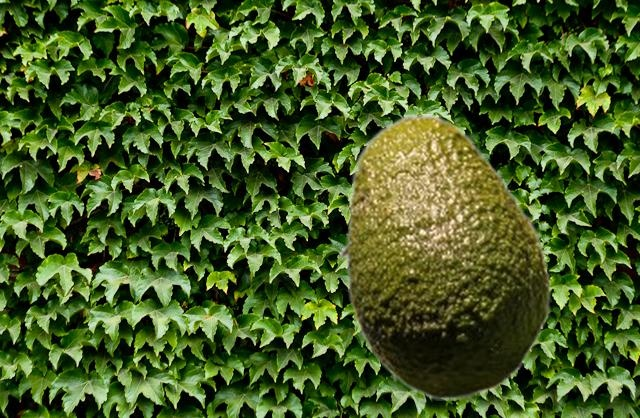avocado: (337, 113, 551, 399)
